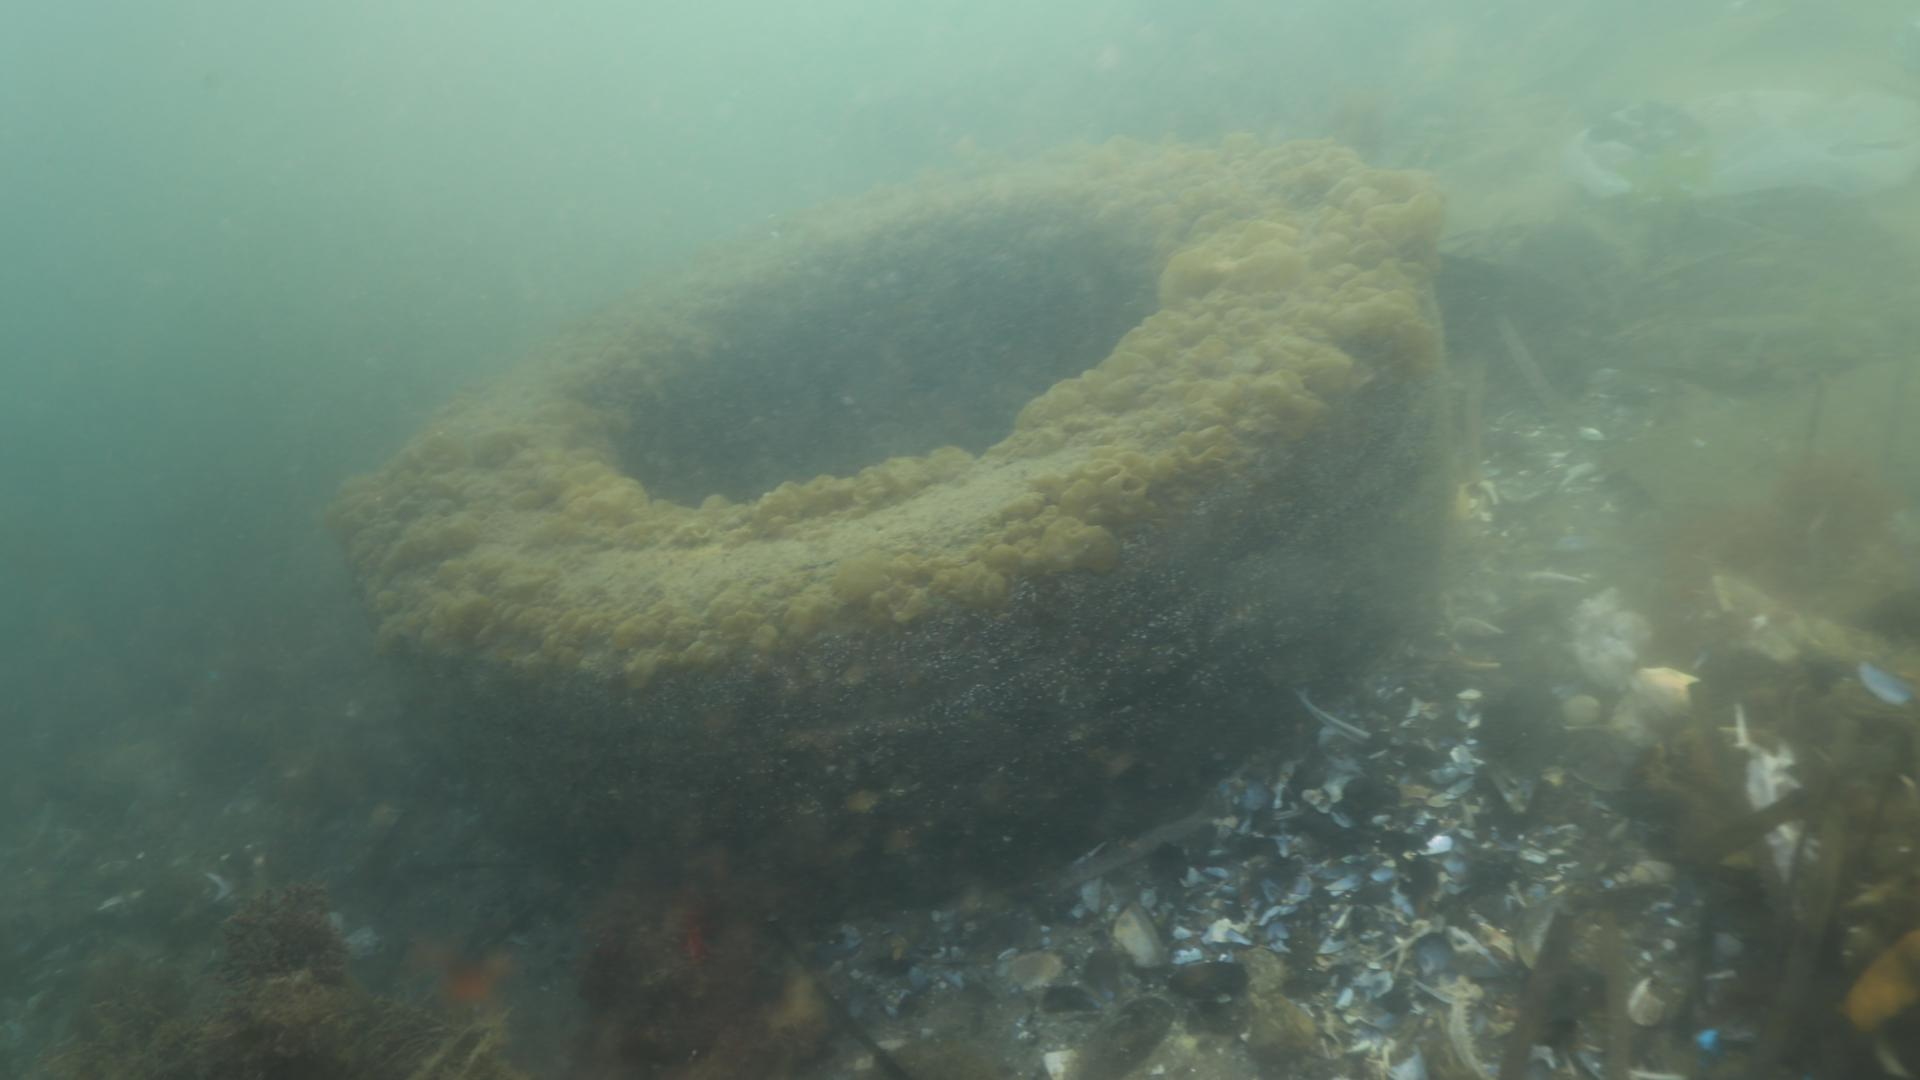tire: (348, 141, 1449, 884)
